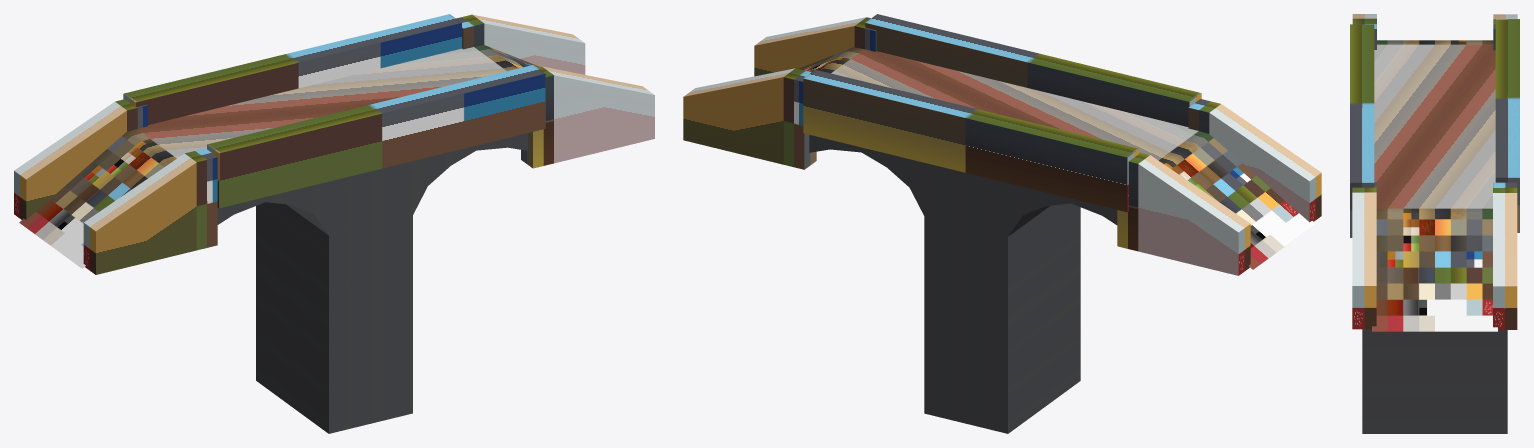
File: Bridge_1_Phys.fbx
The picture shows the model from 3 angles, left to right: view 1: azimuth 30°, elevation 25°; view 2: azimuth 150°, elevation 25°; view 3: azimuth 270°, elevation 25°; orthographic projection.
Parts seen in each view (by area): view 1: polySurface10620; view 2: polySurface10620; view 3: polySurface10620.
Part boxes in pixels (x1,y1,x2,y2): polySurface10620: [14, 14, 654, 433]; polySurface10620: [683, 14, 1321, 433]; polySurface10620: [1350, 14, 1519, 433].
Size of the model in its own units: 1347 by 711 by 350.
